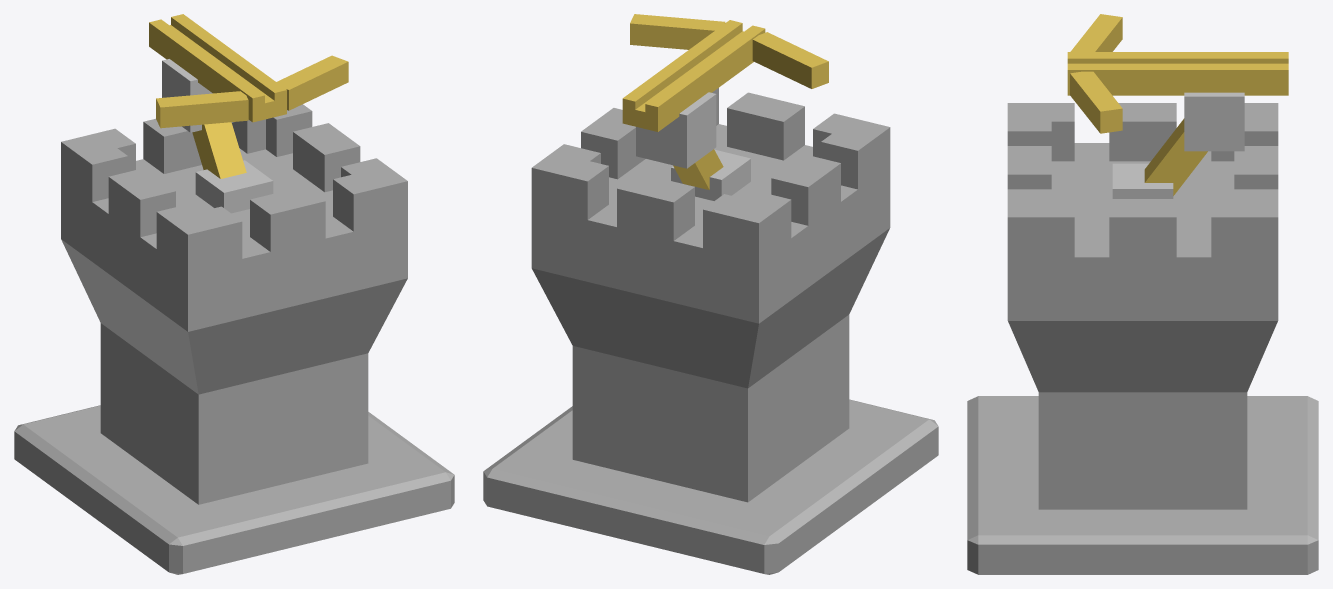
The model's file is simple_turet.fbx.
3 views of the same model, side by side, from view 1: azimuth 30°, elevation 25°; view 2: azimuth 150°, elevation 25°; view 3: azimuth 270°, elevation 25° (orthographic). The views are drawn at different scales.
Visible parts, largest first — view 1: Cube.001, Cube, Cube.002, simple_turet_mid, simple_turet_left, Cube.006, simple_turet_right, Cube.004, Cube.007; view 2: Cube.001, Cube, Cube.002, simple_turet_mid, Cube.007, simple_turet_left, simple_turet_right, Cube.006, Cube.004; view 3: Cube.001, Cube, Cube.002, simple_turet_mid, Cube.007, simple_turet_right, Cube.004, Cube.006, simple_turet_left.
Part boxes in pixels (bbox=[...]): Cube.001: bbox=[61, 148, 407, 504]; Cube: bbox=[14, 405, 454, 574]; Cube.002: bbox=[61, 104, 407, 271]; simple_turet_mid: bbox=[149, 14, 286, 122]; simple_turet_left: bbox=[156, 91, 248, 128]; Cube.006: bbox=[195, 160, 273, 213]; simple_turet_right: bbox=[276, 55, 348, 110]; Cube.004: bbox=[192, 122, 246, 178]; Cube.007: bbox=[162, 59, 233, 132]; Cube.001: bbox=[531, 124, 890, 502]; Cube: bbox=[483, 399, 938, 574]; Cube.002: bbox=[531, 88, 890, 261]; simple_turet_mid: bbox=[622, 20, 765, 131]; Cube.007: bbox=[636, 92, 716, 168]; simple_turet_left: bbox=[752, 32, 828, 88]; simple_turet_right: bbox=[630, 14, 725, 49]; Cube.006: bbox=[671, 149, 750, 200]; Cube.004: bbox=[673, 149, 723, 189]; Cube.001: bbox=[1007, 143, 1278, 509]; Cube: bbox=[967, 396, 1318, 574]; Cube.002: bbox=[1007, 103, 1278, 257]; simple_turet_mid: bbox=[1067, 52, 1288, 95]; Cube.007: bbox=[1184, 92, 1244, 151]; simple_turet_right: bbox=[1070, 71, 1122, 133]; Cube.004: bbox=[1144, 118, 1207, 195]; Cube.006: bbox=[1112, 163, 1173, 198]; simple_turet_left: bbox=[1070, 14, 1122, 51].
Size of the model in its own units: 400 by 558 by 400.
